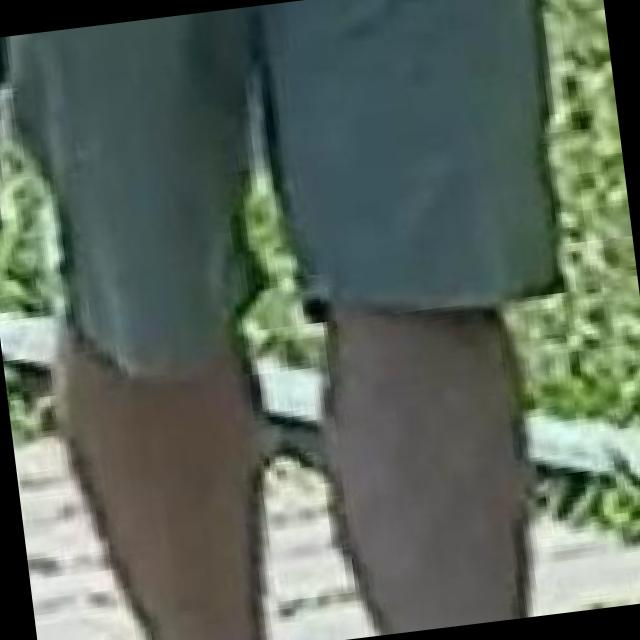Guns: (0, 33, 57, 256)
